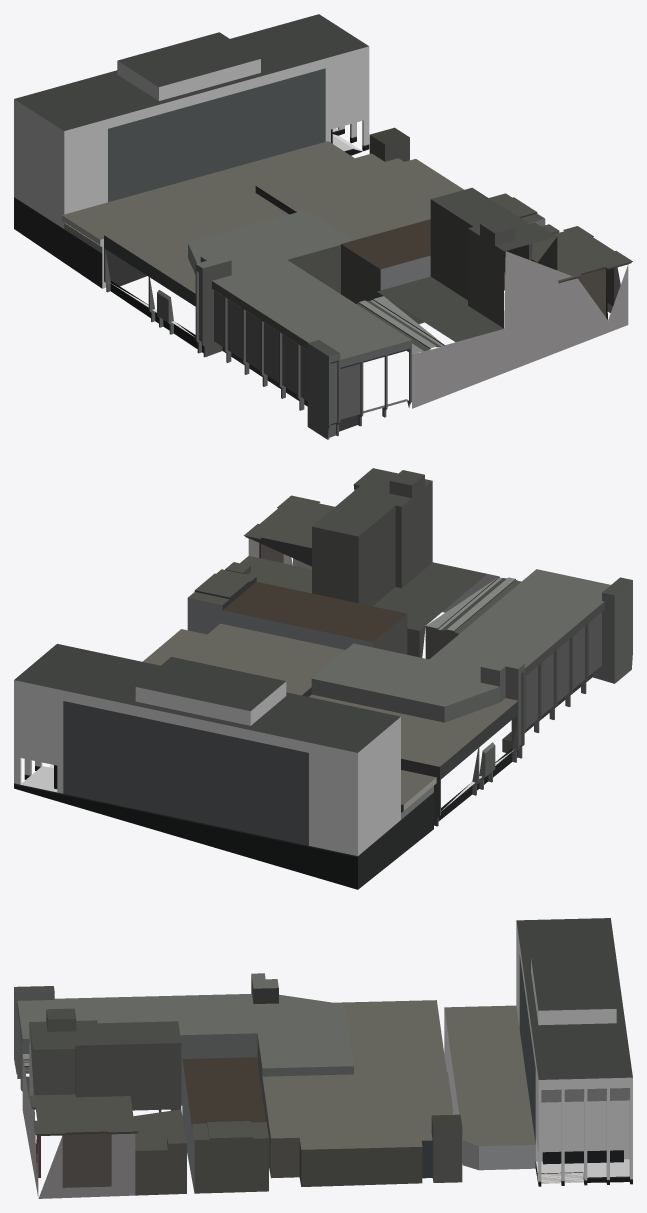
File: 600-walnut-street.glb
3 renders of one model, top to bottom at view 1: azimuth 30°, elevation 25°; view 2: azimuth 150°, elevation 25°; view 3: azimuth 270°, elevation 25°, orthographic. The views are drawn at different scales.
Parts seen in each view (by area): view 1: LOD0; view 2: LOD0; view 3: LOD0.
Part boxes in pixels (x1,y1,x2,y2): LOD0: [14, 14, 632, 439]; LOD0: [14, 468, 632, 889]; LOD0: [14, 918, 632, 1198].
Size of what is drawn, in the model's own units: 88.23 by 37.43 by 134.
2 materials, 2 textured.
